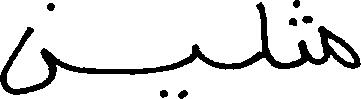X: (0, 0, 53, 98), (158, 39, 200, 98), (315, 21, 360, 73), (289, 0, 313, 73), (259, 0, 269, 67)
